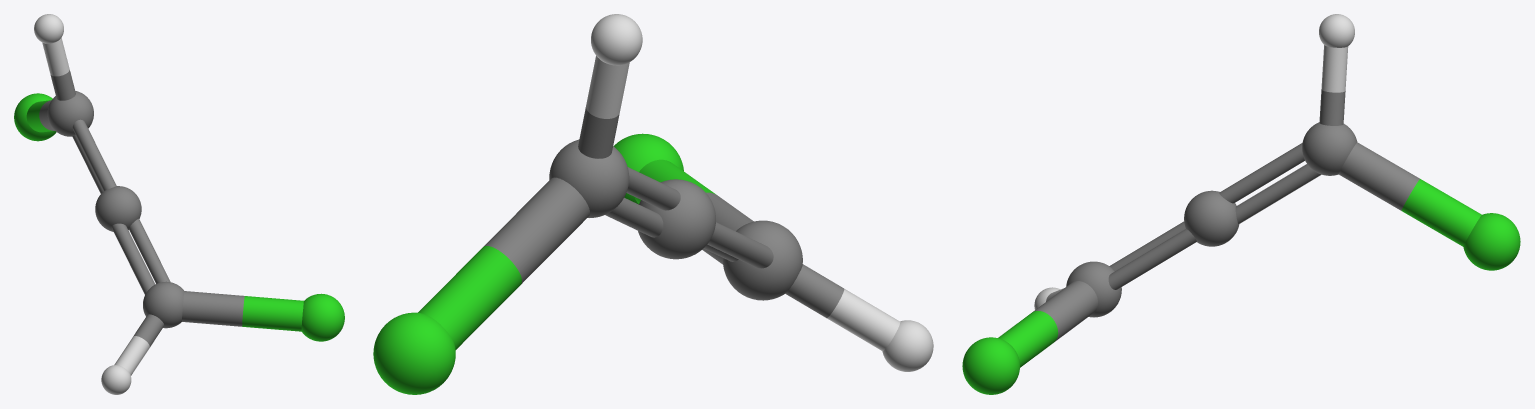
The model's file is S13DICHLOROPROPA12DIENE.MOL2.glb.
The picture shows the model from 3 angles, left to right: view 1: azimuth 30°, elevation 25°; view 2: azimuth 150°, elevation 25°; view 3: azimuth 270°, elevation 25°; orthographic projection. The views are drawn at different scales.
Size of the model in its own units: 2.7 by 3.38 by 5.08.
